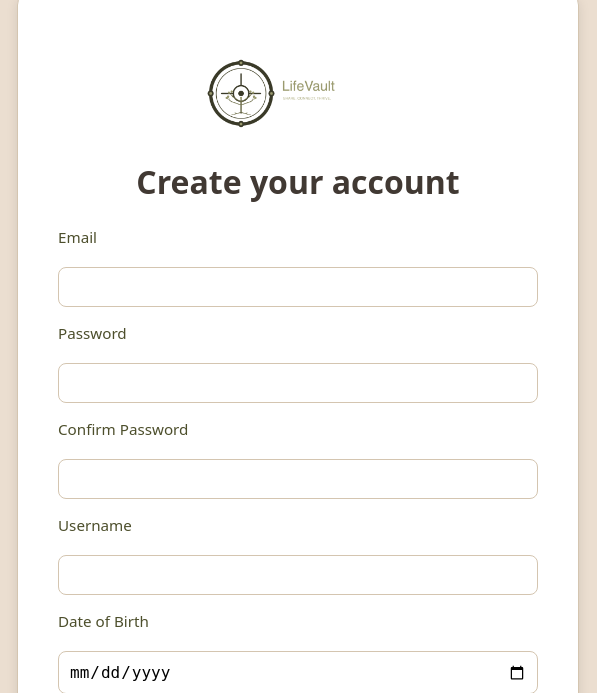
Test: Signup Page › When user types password with no capital letter, no special char or no number, error occurs.
The width and height of the screenshot is (597, 693).
Type "test@email.com" into the field labelled "Email" at (298, 287), box [58,267,538,307]
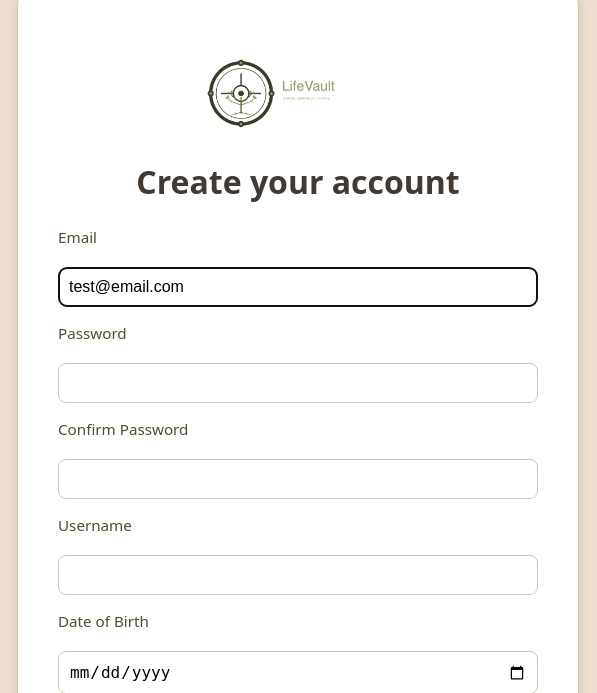
Type "hello" into the password field labelled "Password" at (298, 383), box [58,363,538,403]
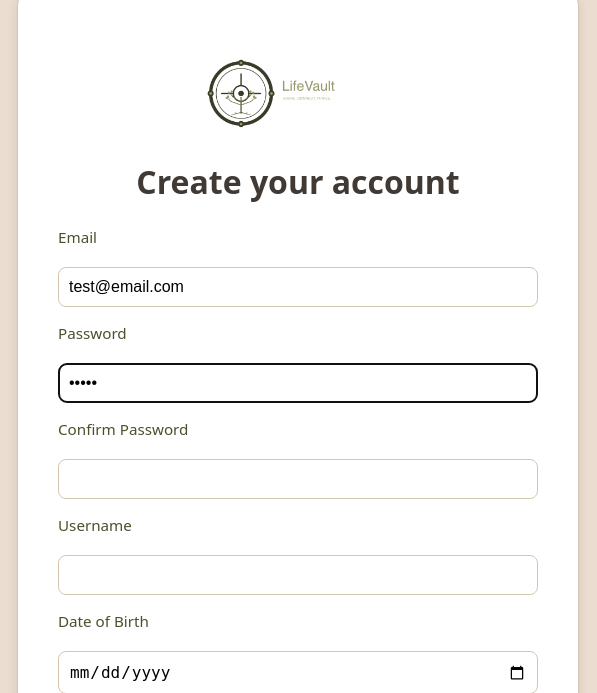
Type "hello" into the password field labelled "Confirm Password" at (298, 479), box [58,459,538,499]
(page scrolled)
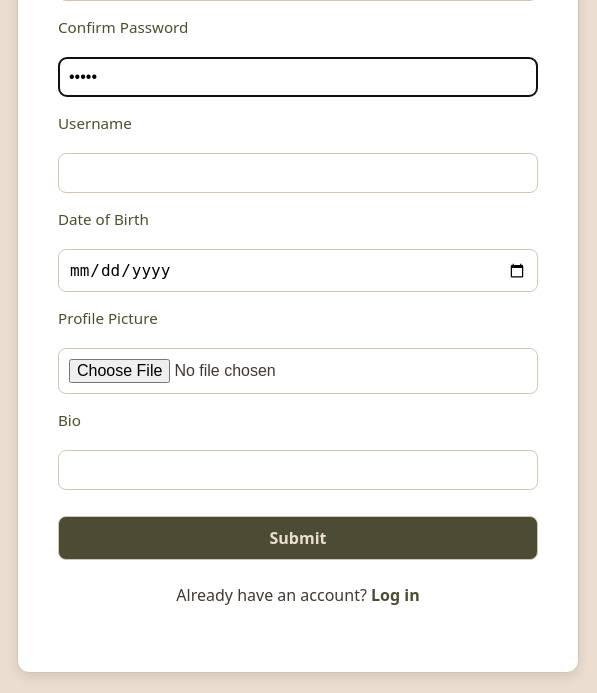
Click the button at (298, 538), box [58,516,538,560]
(page scrolled)
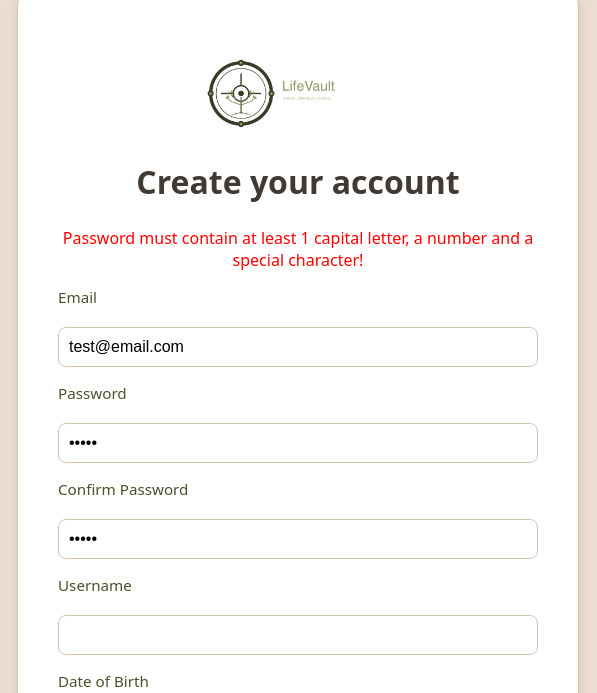
Expected: the text "Password must contain at least 1 capital letter, a number and a special character!" is shown, [63,227,533,271]
